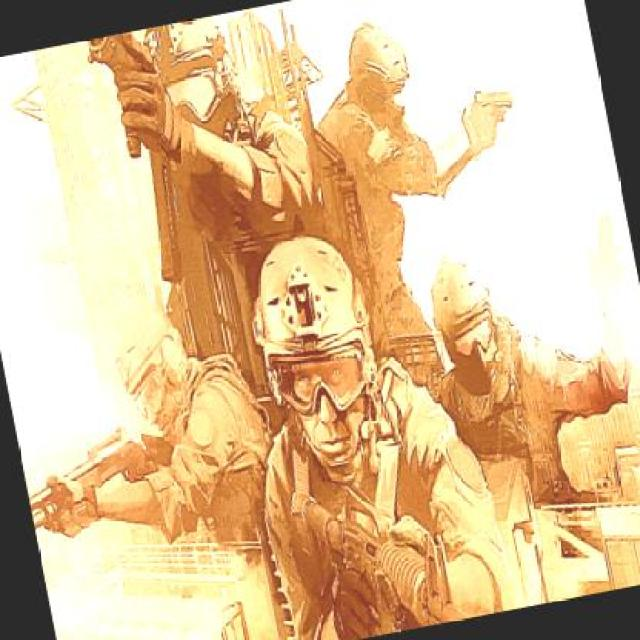MIL_Pax: (206, 198, 519, 638), (294, 0, 526, 391), (404, 220, 638, 532), (63, 281, 291, 574), (103, 1, 335, 284)
